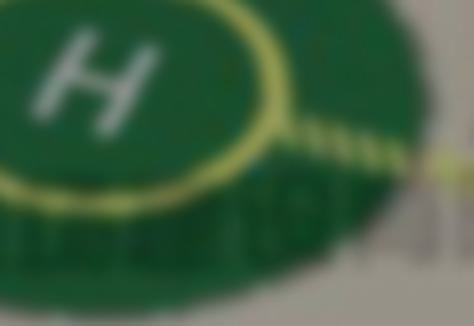Apron: (1, 1, 305, 230)
